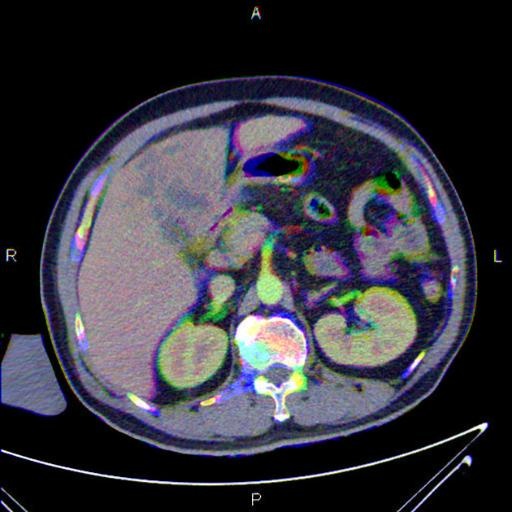Abscess: (136, 145, 214, 247)
